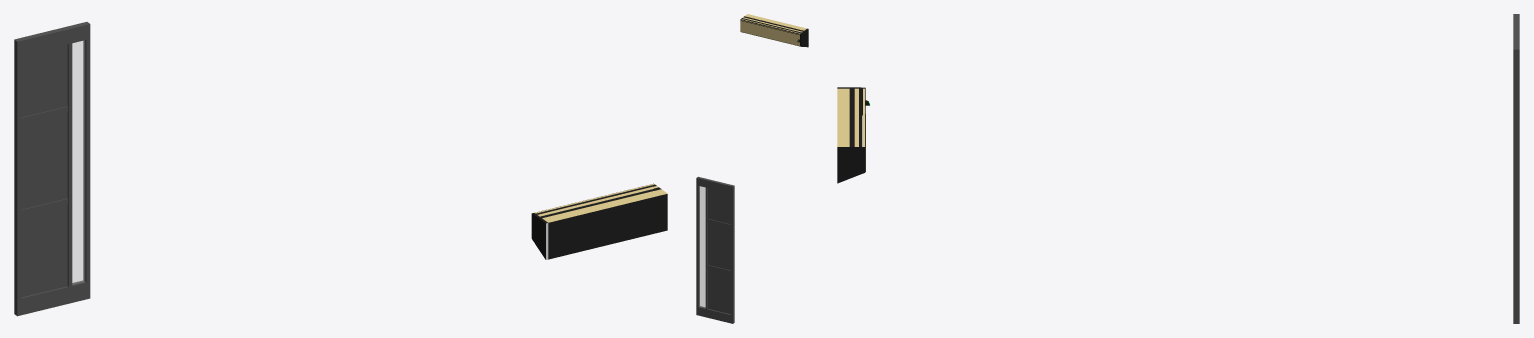
The model's file is Clima-transformed.glb.
3 views of the same model, side by side, from view 1: azimuth 30°, elevation 25°; view 2: azimuth 150°, elevation 25°; view 3: azimuth 270°, elevation 25° (orthographic). The views are drawn at different scales.
Parts seen in each view (by area): view 1: Cubo, Cubo.003; view 2: Cubo, Cubo.003; view 3: Cubo.003, Cubo.
Boxes of the visible parts, x1,y1,x2,y2 form: Cubo: (14,22,90,316); Cubo.003: (531,183,667,259); Cubo: (696,176,734,323); Cubo.003: (740,14,808,47); Cubo.003: (837,87,869,183); Cubo: (1513,14,1519,323).
Size of the model in its own units: 9.31 by 8.38 by 17.63.
Materials: 7 (1 with a texture image).
